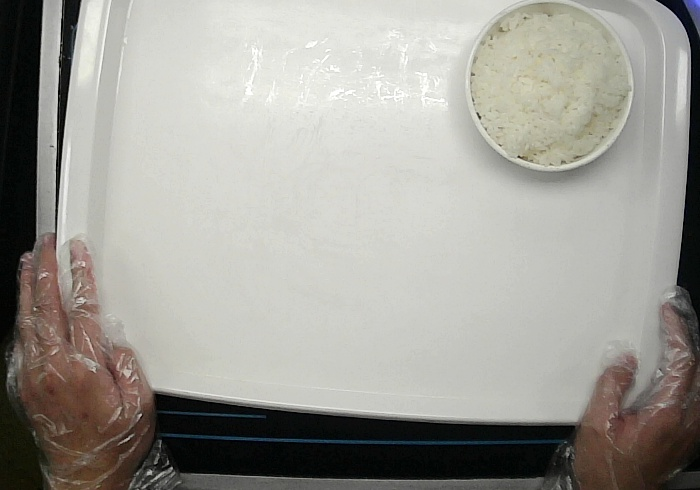HZYJPL-Fan_Wan: (464, 2, 634, 173)
